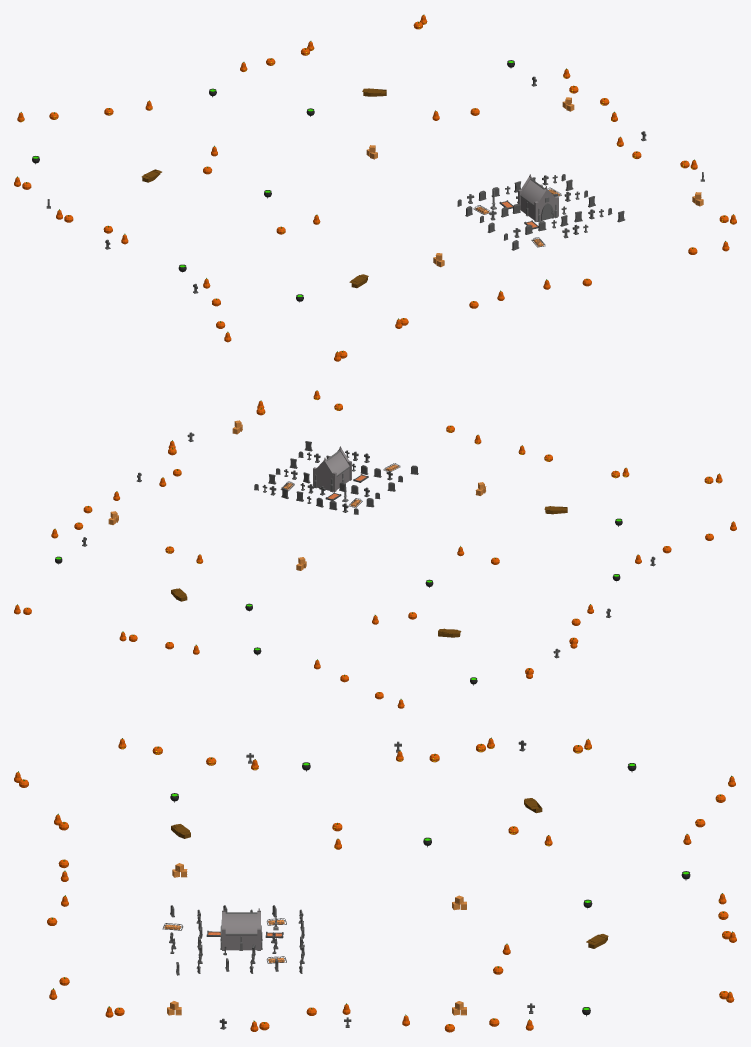
The model's file is DECORATION.glb.
The picture shows the model from 3 angles, top to bottom: view 1: azimuth 30°, elevation 25°; view 2: azimuth 150°, elevation 25°; view 3: azimuth 270°, elevation 25°; orthographic projection. The views are drawn at different scales.
Visible parts, largest first — view 1: DECO; view 2: DECO; view 3: DECO.
Boxes of the visible parts, left/top/right/bottom form: DECO: left=14, top=14, right=736, bottom=361; DECO: left=14, top=390, right=736, bottom=708; DECO: left=14, top=737, right=736, bottom=1032.
Bounding box in the file's own units: 5.89 × 0.354 × 6.28.
